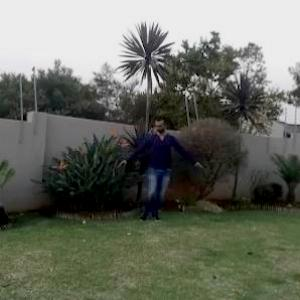land: (108, 108, 204, 230)
